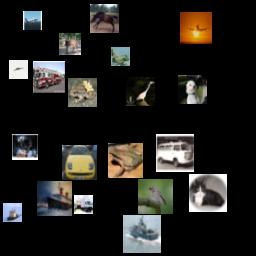airplane: (180, 12, 212, 44), (9, 60, 28, 79), (111, 47, 130, 66), (23, 11, 42, 30)
automobile: (156, 134, 194, 172), (62, 145, 97, 180)
bird: (138, 179, 173, 214), (126, 77, 155, 106)
cat: (189, 174, 227, 212)
deer: (12, 134, 38, 160), (59, 33, 81, 55)
dog: (178, 75, 207, 104)
frog: (108, 143, 143, 178), (68, 78, 97, 107)
ship: (123, 215, 161, 253), (37, 181, 72, 216), (3, 203, 22, 222)
truck: (33, 61, 65, 93), (74, 195, 93, 214)
